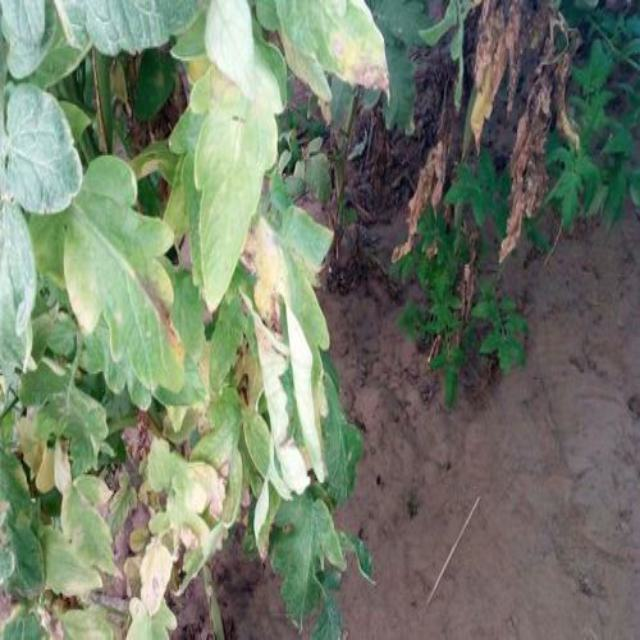Late_blight: (472, 1, 582, 264), (390, 134, 449, 267), (237, 216, 288, 354), (331, 25, 393, 106), (134, 266, 186, 358), (188, 458, 254, 527), (141, 541, 174, 614), (231, 356, 266, 415)
